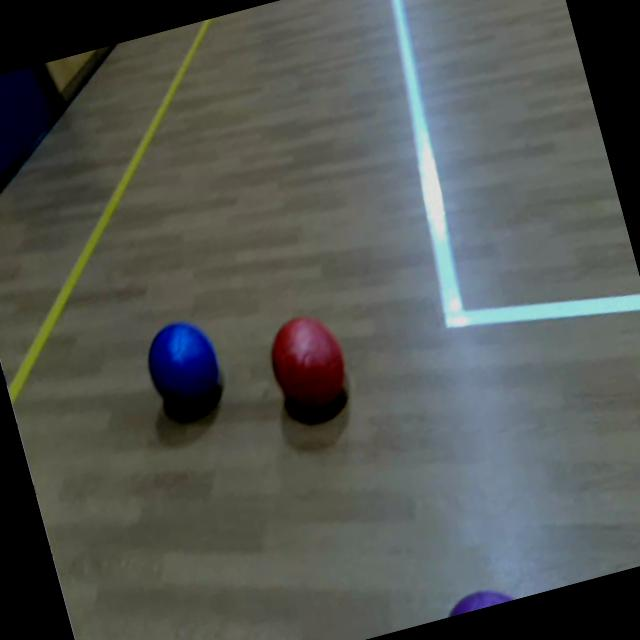blue_ball: (138, 312, 228, 418)
red_ball: (261, 309, 354, 418)
